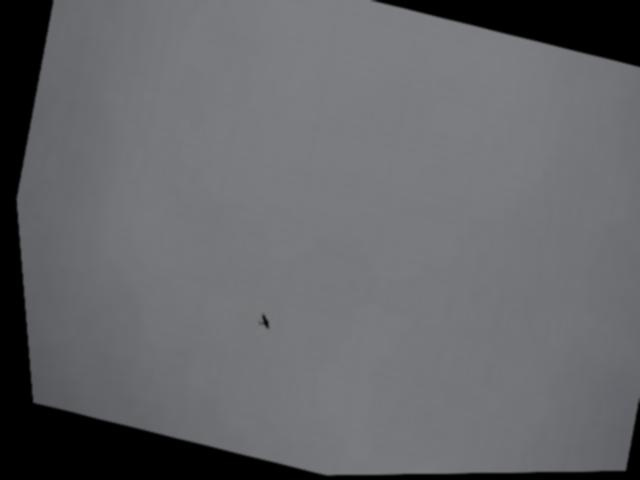uav: (243, 304, 275, 338)
